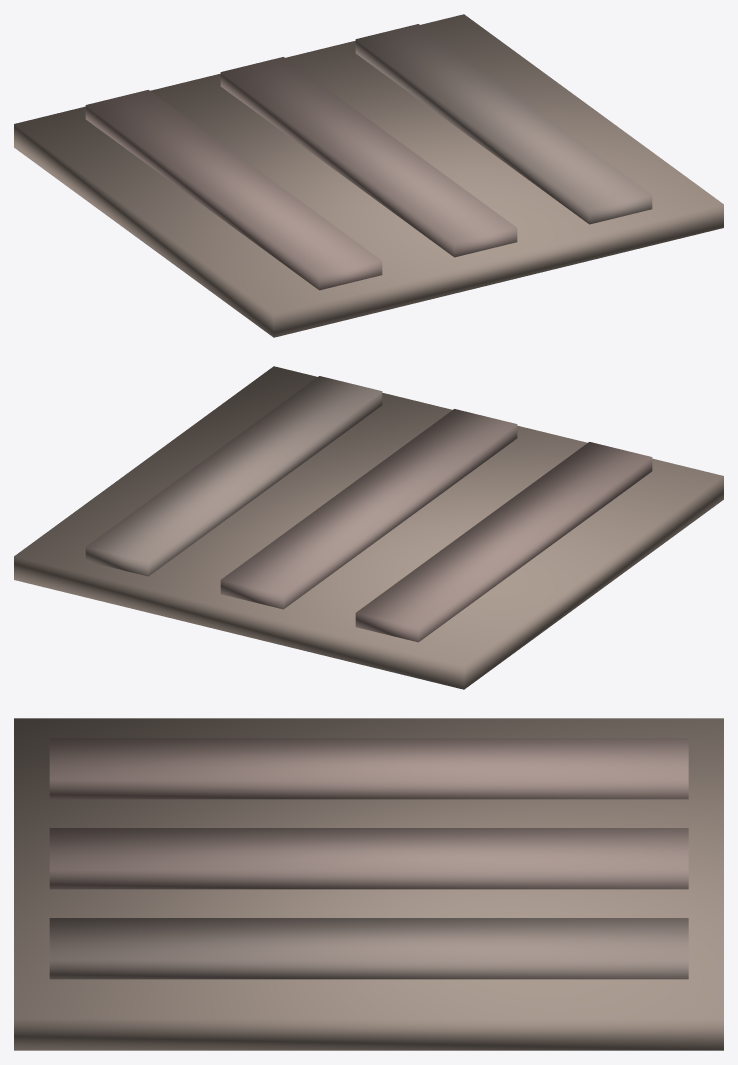
File: plant_tilled_soil.glb
The picture shows the model from 3 angles, top to bottom: view 1: azimuth 30°, elevation 25°; view 2: azimuth 150°, elevation 25°; view 3: azimuth 270°, elevation 25°; orthographic projection. The views are drawn at different scales.
Visible parts, largest first — view 1: soil_base, ridge1, ridge0, ridge2; view 2: soil_base, ridge1, ridge0, ridge2; view 3: soil_base, ridge0, ridge1, ridge2.
Part boxes in pixels (x1,y1,x2,y2): soil_base: [14, 14, 723, 337]; ridge1: [220, 57, 517, 257]; ridge0: [85, 90, 382, 290]; ridge2: [355, 24, 652, 224]; soil_base: [14, 366, 723, 689]; ridge1: [220, 409, 517, 609]; ridge0: [355, 442, 652, 642]; ridge2: [85, 376, 382, 576]; soil_base: [14, 718, 723, 1050]; ridge0: [49, 738, 688, 799]; ridge1: [49, 828, 688, 889]; ridge2: [49, 918, 688, 979].
Bounding box in the file's own units: 1 × 0.08 × 1.
